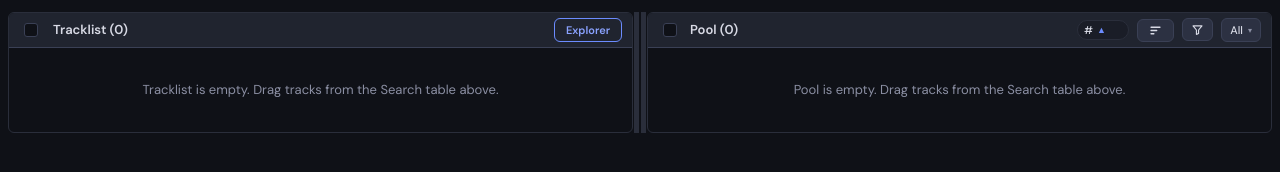
Scenario: SetBuilder › workspace layout › collapsing the tracklist unfurls the pool over its area
Click the button named "Collapse tracklist" at [636, 72], box [634,12,639,132]
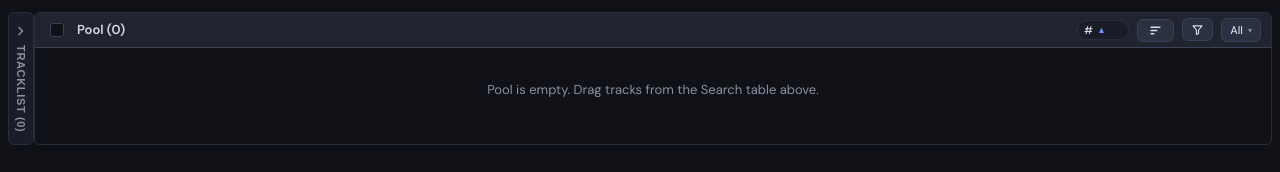
expect the element with class "set-tracklist" is gone: met
expect the element with class "set-pool-pane--full" is shown: met
expect the 1st icon is shown: met, box [15,25,27,37]
